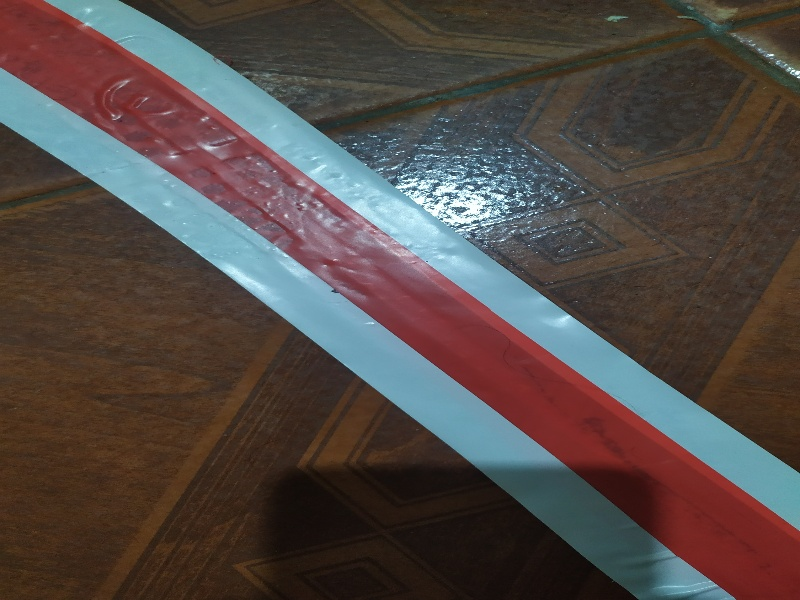saindoDireita: (14, 1, 795, 594)
